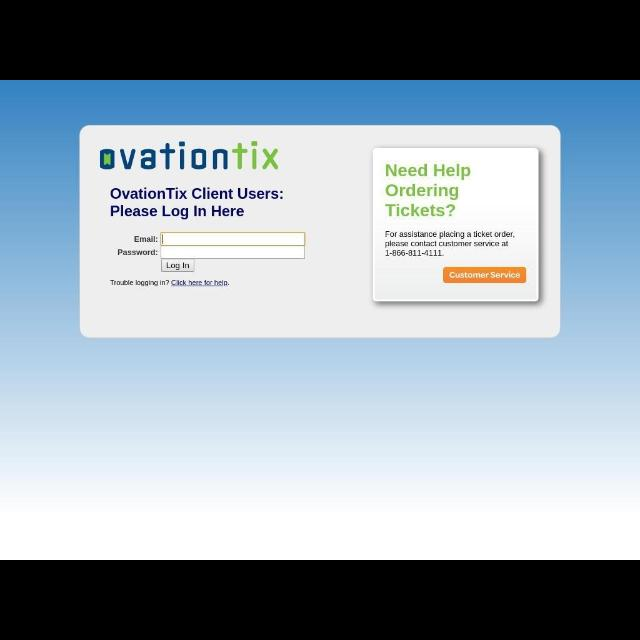image: (100, 140, 280, 172)
input: (160, 232, 306, 246), (160, 247, 306, 259)
link: (172, 280, 230, 288)
panel: (80, 125, 562, 338), (374, 147, 540, 301)
text: (111, 188, 283, 218), (386, 164, 472, 218), (384, 230, 516, 256), (449, 272, 521, 278), (110, 280, 168, 286), (118, 249, 158, 257), (134, 235, 158, 243), (167, 262, 190, 270)
textbutton: (444, 267, 526, 283), (162, 260, 194, 272)
